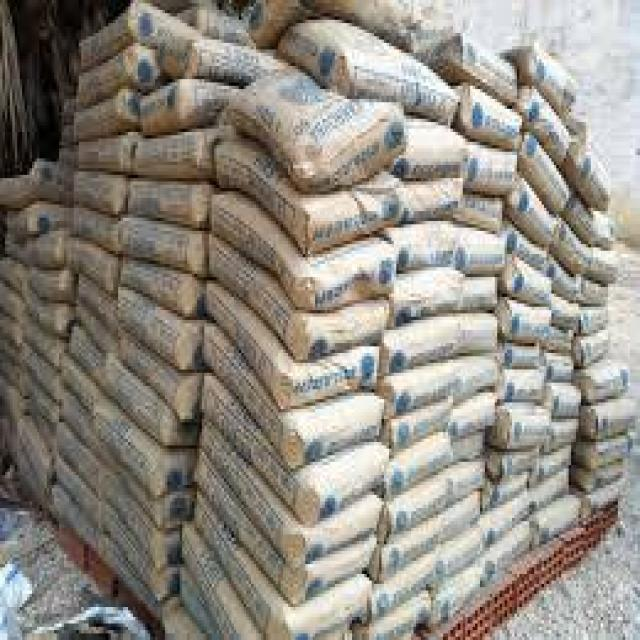gunny_bag: (198, 382, 387, 528), (198, 426, 376, 573), (201, 329, 382, 468), (192, 500, 368, 640), (224, 58, 409, 191), (209, 240, 390, 362), (213, 141, 402, 255), (202, 284, 376, 407), (208, 194, 393, 309), (276, 13, 460, 123), (89, 398, 195, 497), (103, 353, 201, 448), (80, 2, 202, 77), (518, 133, 595, 243), (115, 287, 206, 374), (101, 505, 179, 604), (117, 334, 202, 421), (99, 480, 179, 569), (428, 34, 520, 100), (507, 44, 581, 116), (140, 81, 234, 137), (117, 217, 208, 274), (77, 44, 159, 107), (182, 39, 287, 82), (120, 261, 199, 318), (370, 552, 437, 619), (458, 82, 523, 151), (382, 317, 458, 376), (392, 120, 465, 181), (391, 266, 462, 328), (515, 86, 571, 164), (386, 431, 453, 496), (369, 520, 437, 584), (126, 179, 213, 229), (135, 131, 221, 179), (390, 361, 459, 417), (505, 178, 559, 248), (72, 89, 141, 142), (428, 566, 482, 631), (54, 421, 103, 492), (390, 218, 455, 270), (391, 399, 456, 451), (564, 142, 612, 211), (390, 476, 447, 534), (484, 520, 530, 589), (371, 591, 433, 640), (404, 175, 462, 226), (66, 239, 117, 296), (498, 254, 553, 305), (16, 418, 56, 488), (489, 402, 548, 448), (483, 493, 531, 549), (495, 298, 551, 345), (21, 321, 72, 371), (576, 358, 629, 405), (464, 146, 518, 192), (74, 171, 129, 216), (532, 494, 584, 541), (459, 222, 504, 276), (436, 529, 483, 580), (21, 347, 62, 405), (60, 354, 99, 413), (78, 276, 118, 333), (6, 199, 69, 235), (78, 137, 139, 174), (547, 222, 590, 274), (573, 434, 633, 471), (23, 296, 73, 339), (449, 393, 495, 438), (444, 458, 486, 507), (68, 327, 105, 382), (580, 399, 635, 436), (72, 207, 119, 250), (440, 492, 481, 541), (506, 226, 548, 270), (531, 469, 570, 514), (501, 368, 545, 403), (534, 445, 572, 485), (572, 329, 610, 369), (29, 271, 76, 303), (461, 314, 497, 354), (486, 449, 531, 479), (543, 381, 582, 415), (462, 276, 498, 309), (544, 418, 577, 454), (540, 352, 577, 382), (503, 342, 540, 368), (0, 257, 26, 293), (552, 297, 578, 331), (1, 283, 21, 319), (580, 306, 605, 334), (1, 314, 22, 347)
